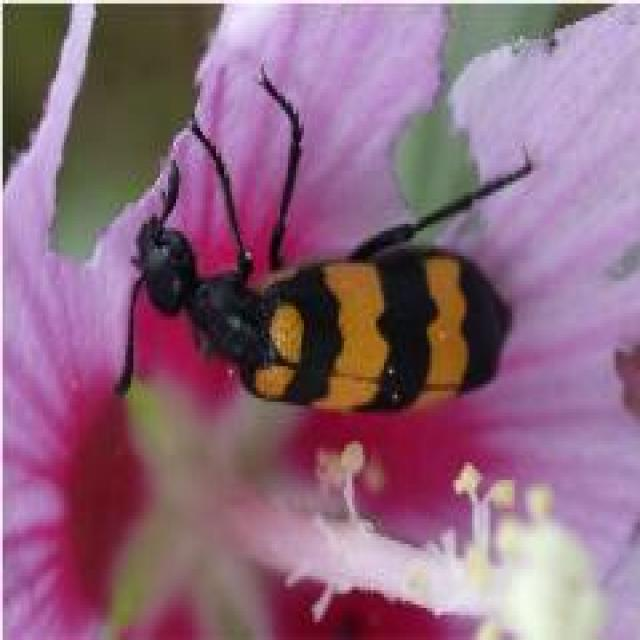BlisterBeetle-Adult-: (99, 64, 568, 436)
